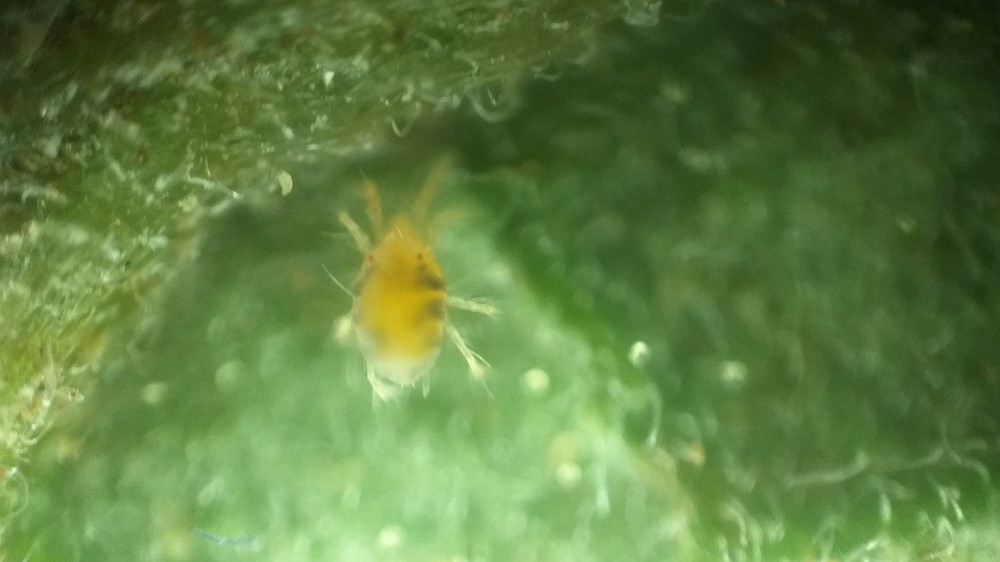Aracnido Rojo: (297, 152, 515, 422)
